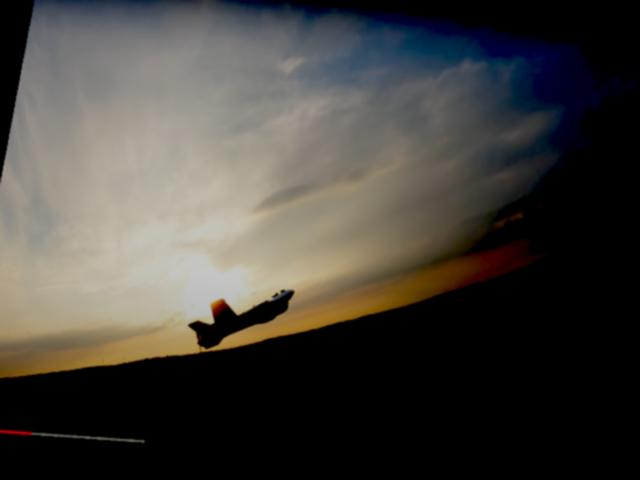plane: (185, 280, 296, 367)
